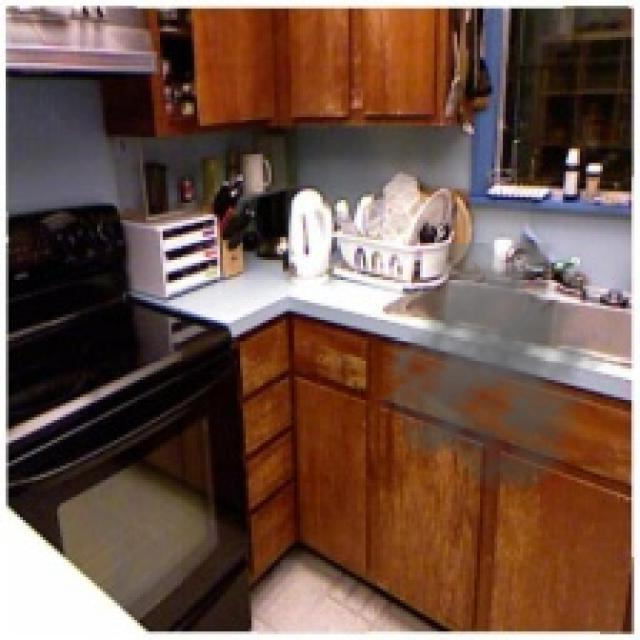Smoke: (377, 243, 617, 494)
